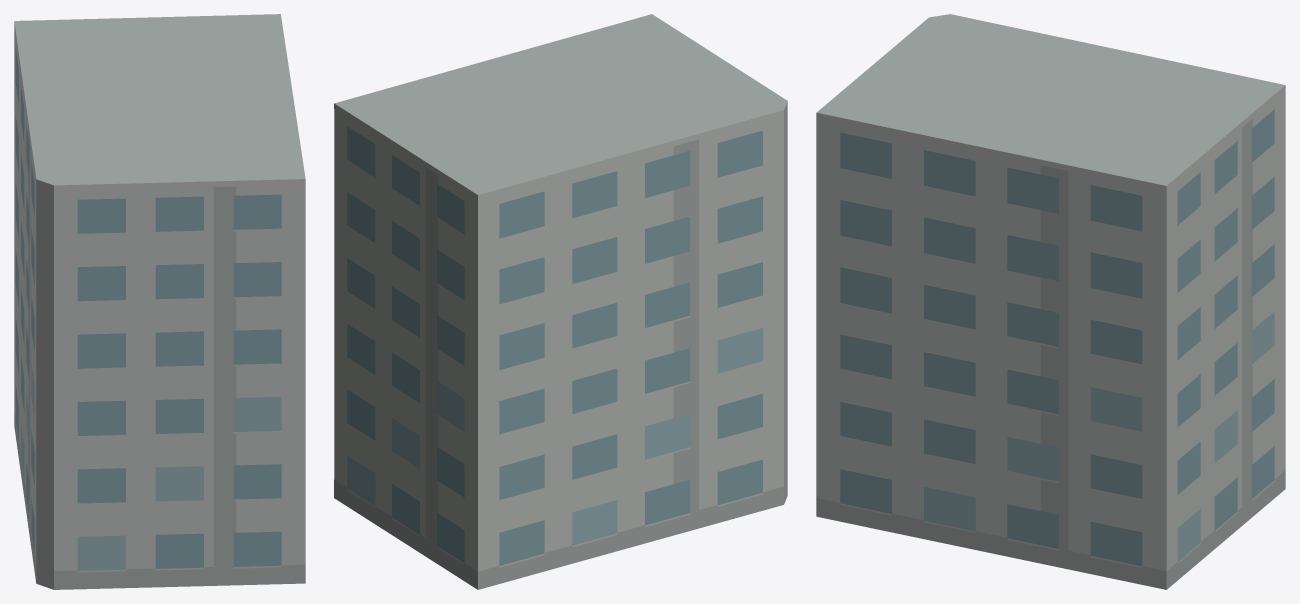
File: survey-upis-32893927.glb
3 renders of one model, left to right at view 1: azimuth 30°, elevation 25°; view 2: azimuth 150°, elevation 25°; view 3: azimuth 270°, elevation 25°, orthographic. The views are drawn at different scales.
Parts seen in each view (by area): view 1: survey-upis-32893927.tmp; view 2: survey-upis-32893927.tmp; view 3: survey-upis-32893927.tmp.
Part boxes in pixels (<box>): survey-upis-32893927.tmp: <box>14,14,305,589</box>; survey-upis-32893927.tmp: <box>334,14,787,589</box>; survey-upis-32893927.tmp: <box>816,14,1285,589</box>.
Size of the model in its own units: 15.71 by 17.2 by 18.11.
